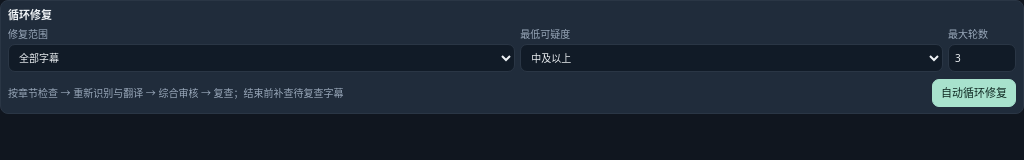
bounded repair controls › rejects invalid round input 0
Replace the text in the number field named "自动修复最大轮数" with "0": [982, 58] box [948, 44, 1016, 72]
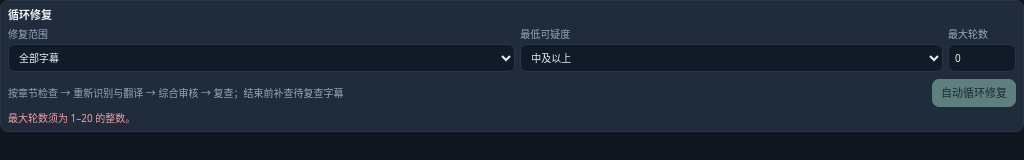
Expected: the button "自动循环修复" is disabled, [932, 79, 1016, 107]
Expected: the message shows "1–20", [8, 111, 135, 125]
